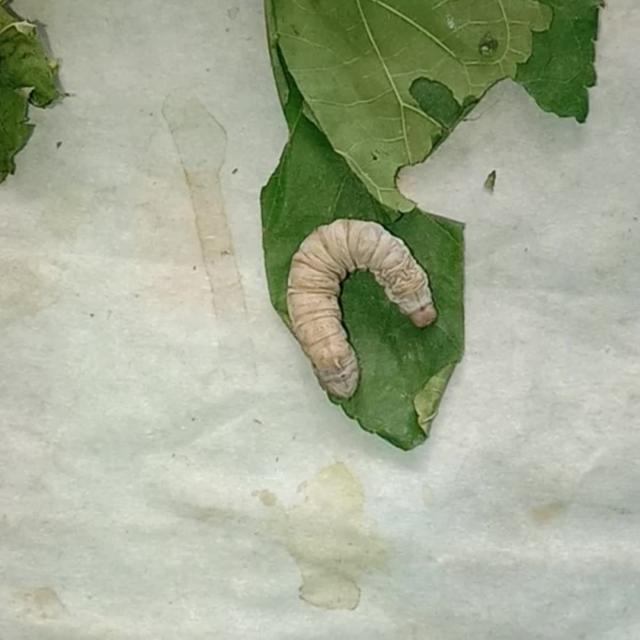Grasserie: (264, 184, 459, 450)
